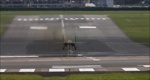maybay_muctieu: (55, 35, 83, 50)
